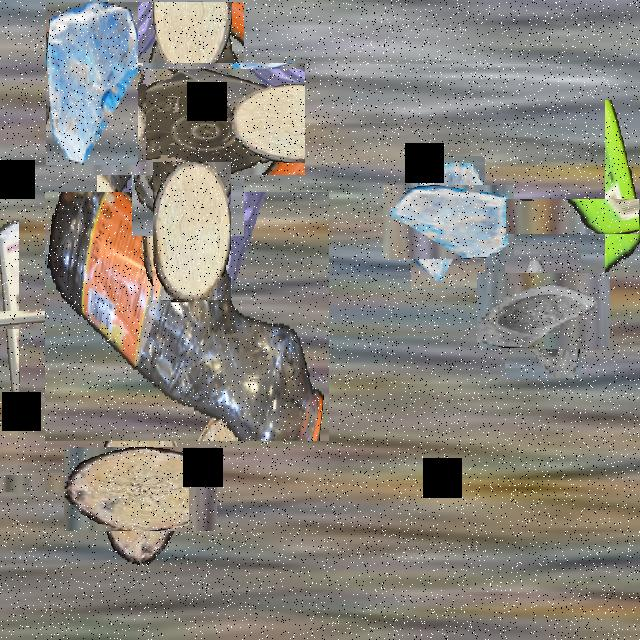glass: (46, 2, 138, 165), (80, 175, 198, 291), (490, 258, 596, 364), (396, 171, 499, 273)
metal: (0, 451, 41, 515)
plastic: (45, 192, 329, 441), (102, 32, 274, 206), (555, 149, 640, 284), (0, 265, 64, 374)
wood: (80, 430, 200, 548), (153, 162, 231, 300)
